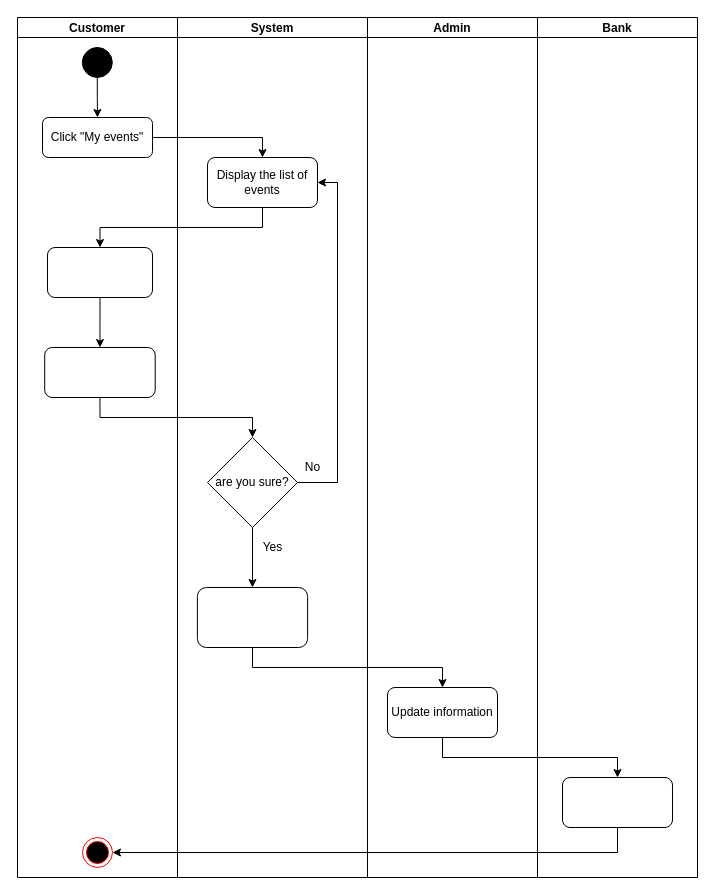
This 715x895 diagram has some shape labels left out. Each missing label, with the centre of its shape:
Click "Cancel the event": point (99, 372)
Remove the event from list: point (252, 617)
Select an event: point (99, 272)
Withdraw money: point (617, 802)
